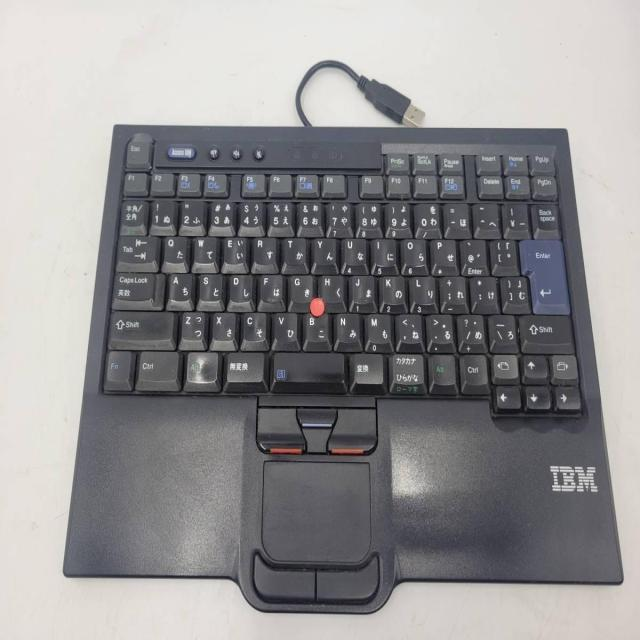keyboard: (99, 124, 619, 582)
